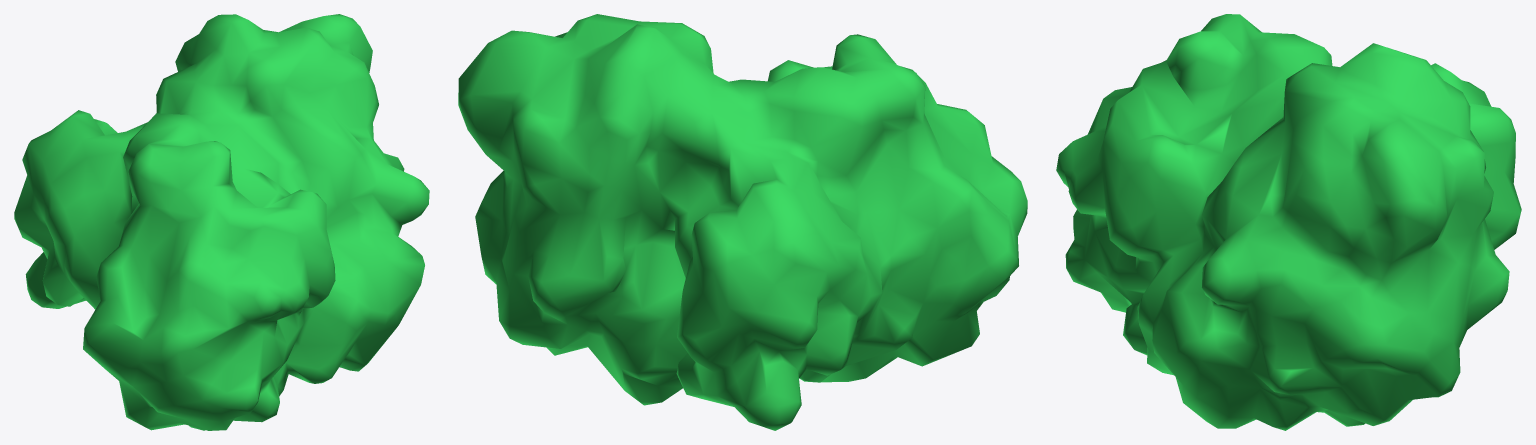
Rendered from Stat_2.glb.
The picture shows the model from 3 angles, left to right: view 1: azimuth 30°, elevation 25°; view 2: azimuth 150°, elevation 25°; view 3: azimuth 270°, elevation 25°; orthographic projection. The views are drawn at different scales.
Parts seen in each view (by area): view 1: STAT_2; view 2: STAT_2; view 3: STAT_2.
Part boxes in pixels (box(x1,y1,x2,y2)): STAT_2: box(14, 14, 429, 430); STAT_2: box(458, 14, 1027, 430); STAT_2: box(1056, 14, 1521, 430).
Size of the model in its own units: 6.09 by 5.08 by 5.69.
Materials: 1 (1 with a texture image).
